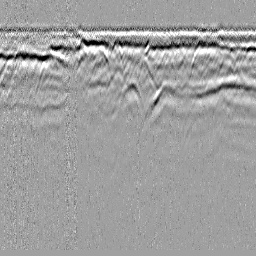cavity: (114, 76, 145, 118)
